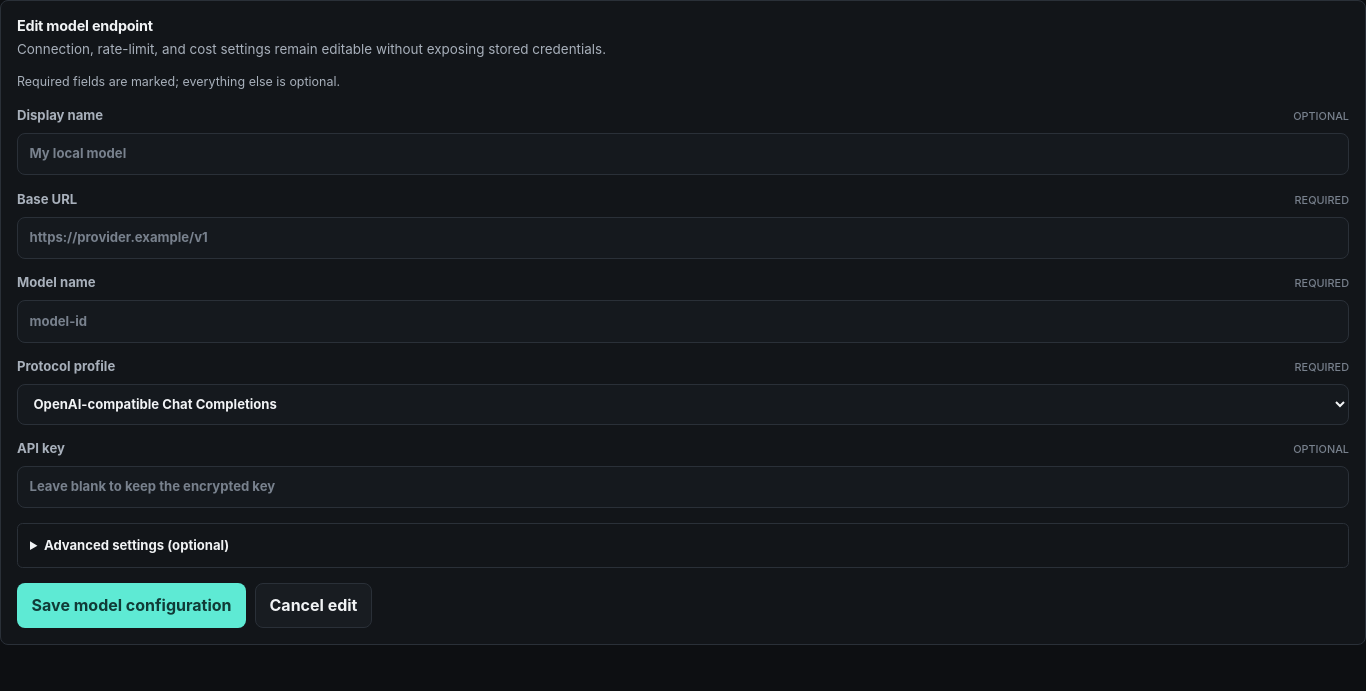
configure workspace pages › keeps advanced settings collapsed when editing and exposes typed reasoning defaults when opened
Click the heading "Advanced settings (optional)".
click(137, 545)  # box x1=44 y1=537 x2=229 y2=553
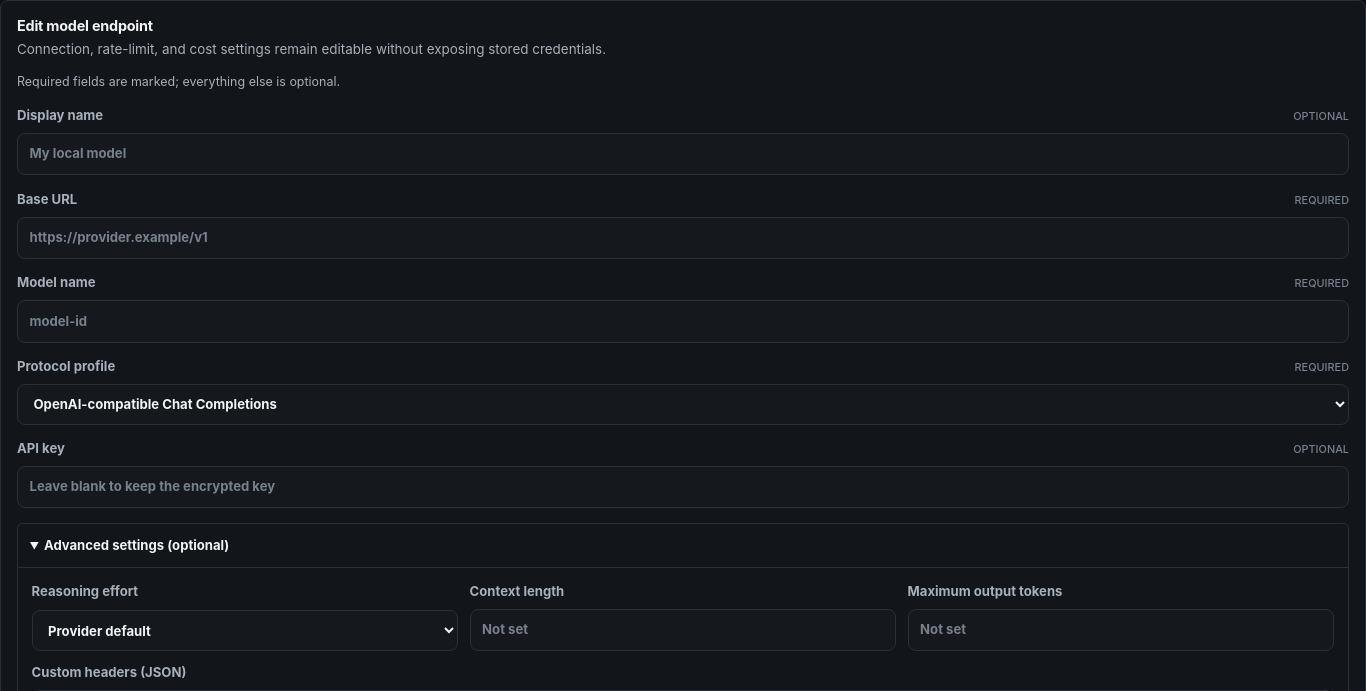
Expected: the dropdown labelled "Reasoning effort" shows "Provider default", x1=32 y1=610 x2=458 y2=651
Expected: the number field labelled "Context length" is not empty, x1=470 y1=609 x2=896 y2=651
Expected: the number field labelled "Maximum output tokens" is not empty, x1=908 y1=609 x2=1334 y2=651
